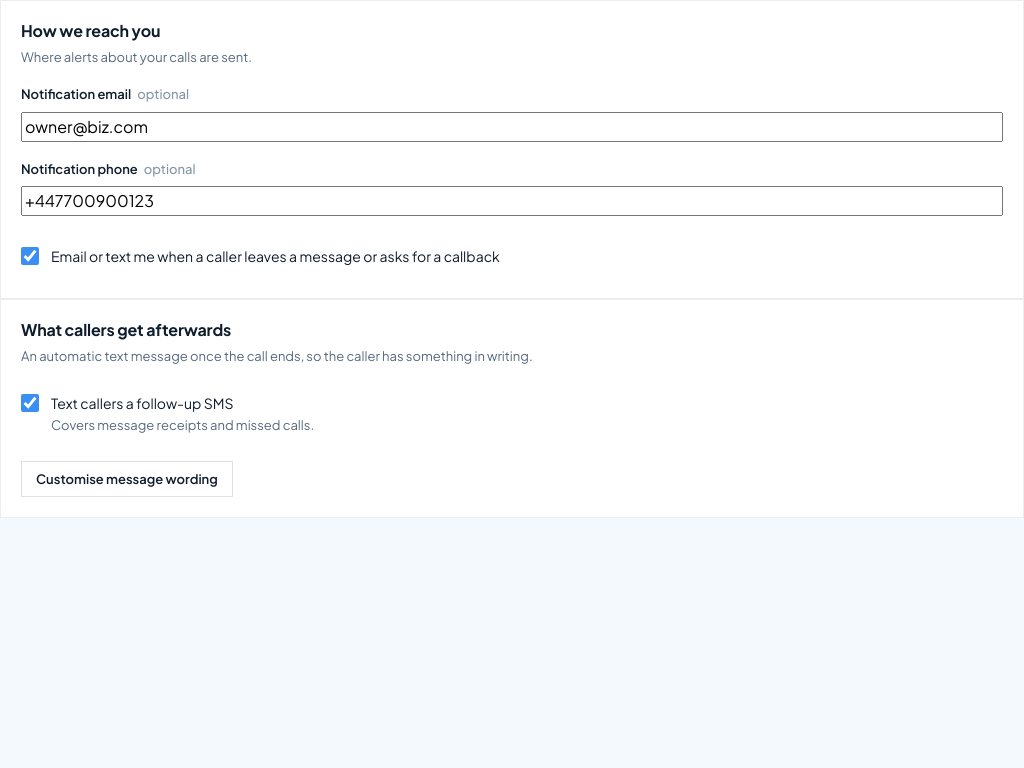
NotificationsSection — caller SMS follow-ups › reveals one override field per known template kind once expanded
This screenshot has width=1024, height=768.
Step 1. Click the button "Customise message wording" → (127, 479), box [21,461,233,497]
(page scrolled)
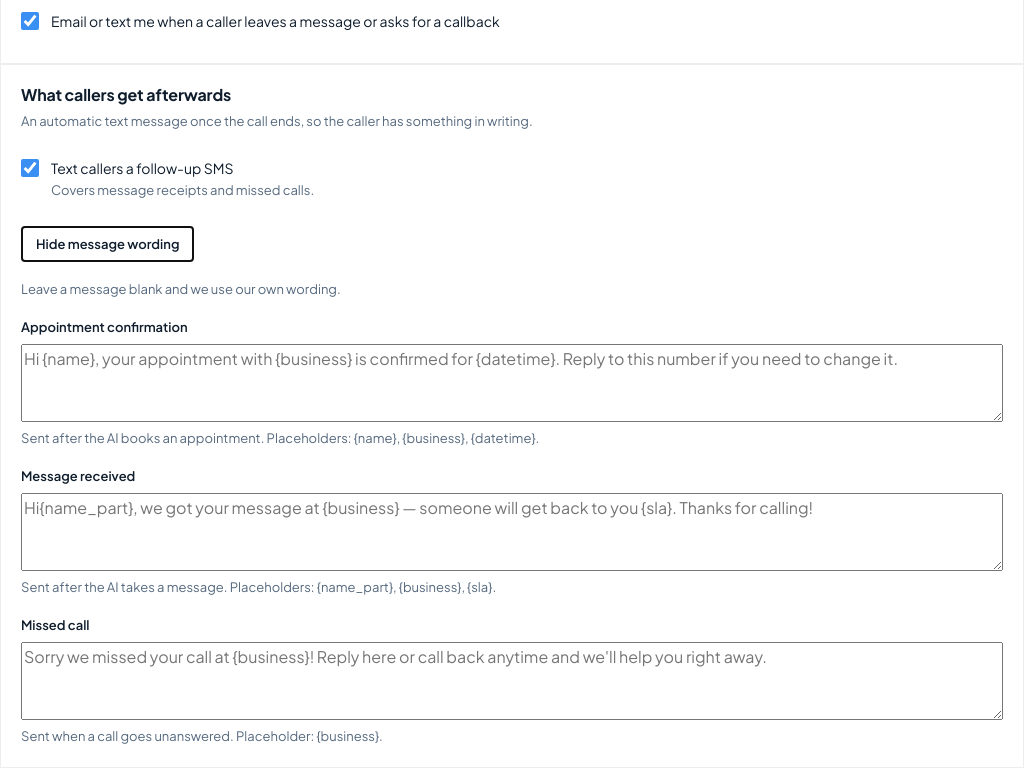
expect the text box labelled "Appointment confirmation" is shown: met, box [21,344,1003,422]
expect the text box labelled "Message received" is shown: met, box [21,493,1003,571]
expect the text box labelled "Missed call" is shown: met, box [21,642,1003,720]
